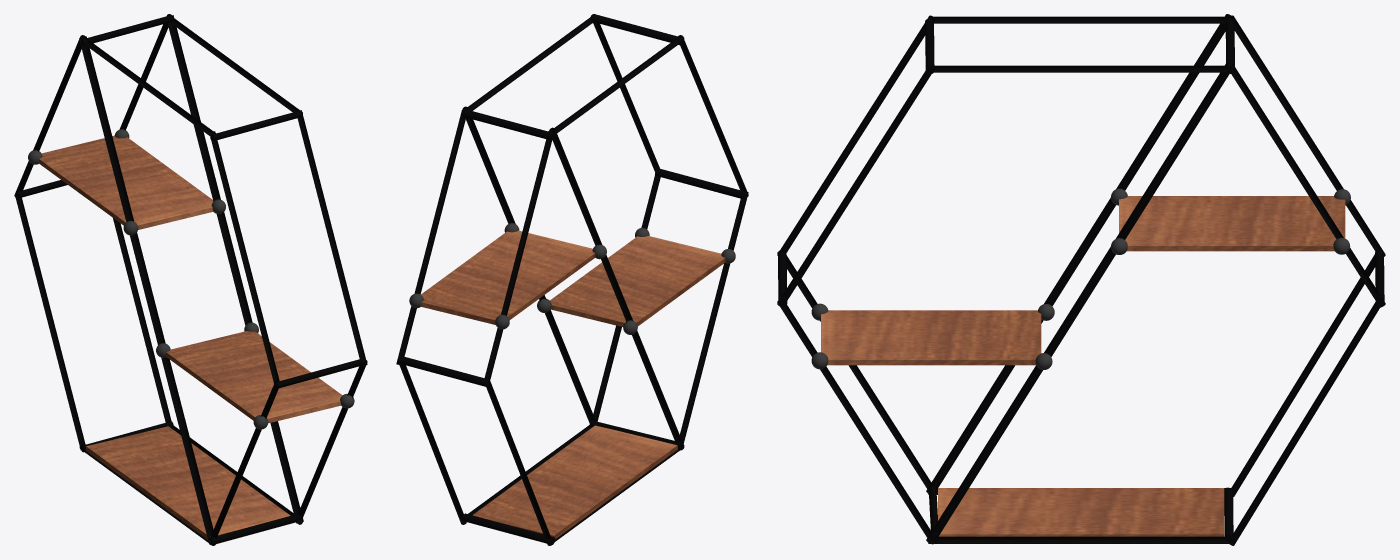
Rendered from shelf.glb.
3 renders of one model, left to right at view 1: azimuth 30°, elevation 25°; view 2: azimuth 150°, elevation 25°; view 3: azimuth 270°, elevation 25°, orthographic. The views are drawn at different scales.
Parts seen in each view (by area): view 1: Cube.002, Cylinder.005, Sphere.006; view 2: Cube.002, Cylinder.005, Sphere.006; view 3: Cube.002, Cylinder.005, Sphere.006.
Boxes of the visible parts, x1,y1,x2,y2 form: Cube.002: (38,135,342,539); Cylinder.005: (14,14,367,545); Sphere.006: (28,129,354,429); Cube.002: (420,230,725,538); Cylinder.005: (396,14,748,545); Sphere.006: (409,223,735,334); Cube.002: (821,196,1345,536); Cylinder.005: (777,14,1385,545); Sphere.006: (811,188,1350,369).
Bounding box in the file's own units: 0.3695 × 1.46 × 1.67.
Materials: 3 (3 with a texture image).
